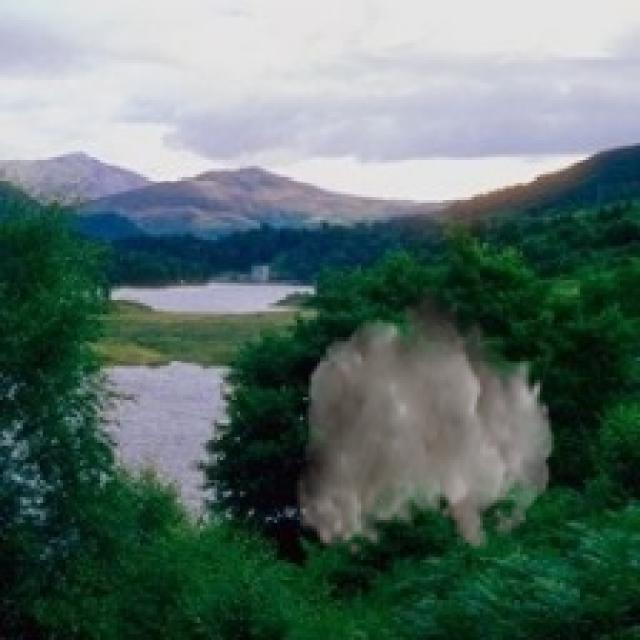smoke: (294, 286, 554, 557)
